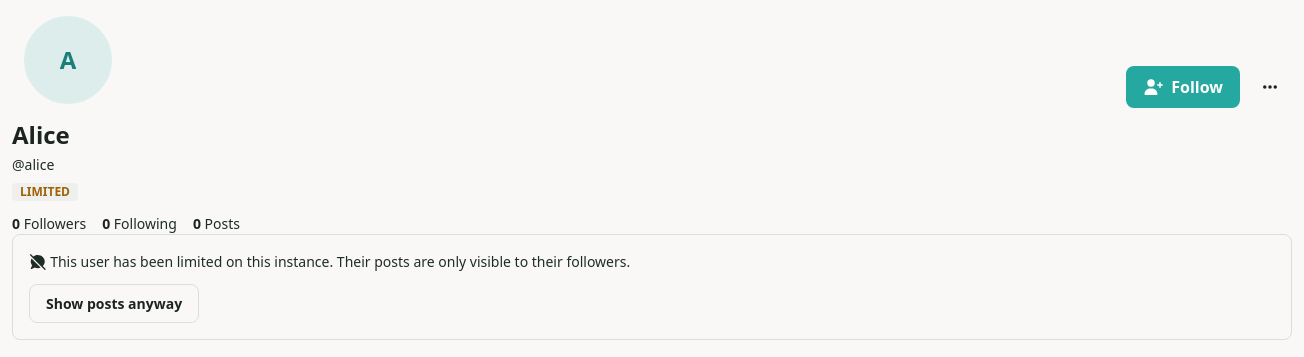
Test: ProfilePage › hides a limited profile's timeline behind a notice for strangers
Expected: the text "limited on this instance" is shown, [46,252,630,271]
Click the button "Show posts anyway": coordinates (114, 304) [29,284,199,323]
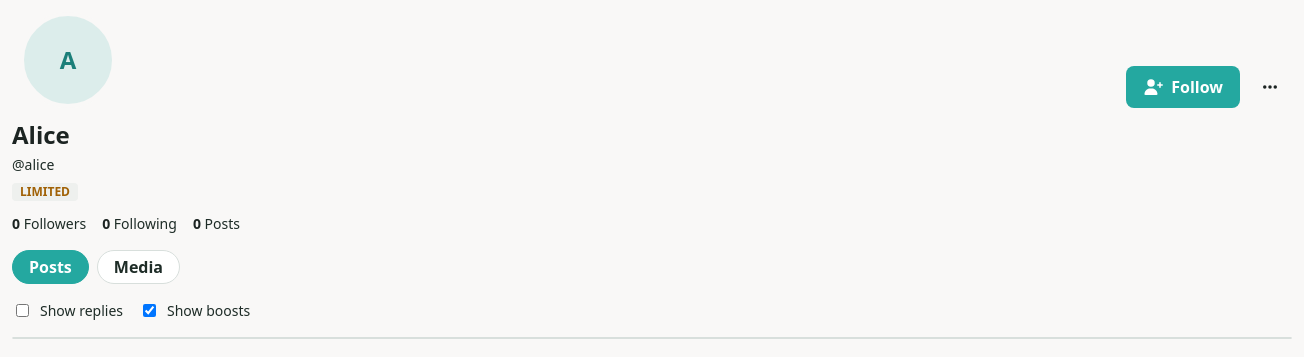
Result: the element with class "timeline" is shown at [12,337,1292,339]
